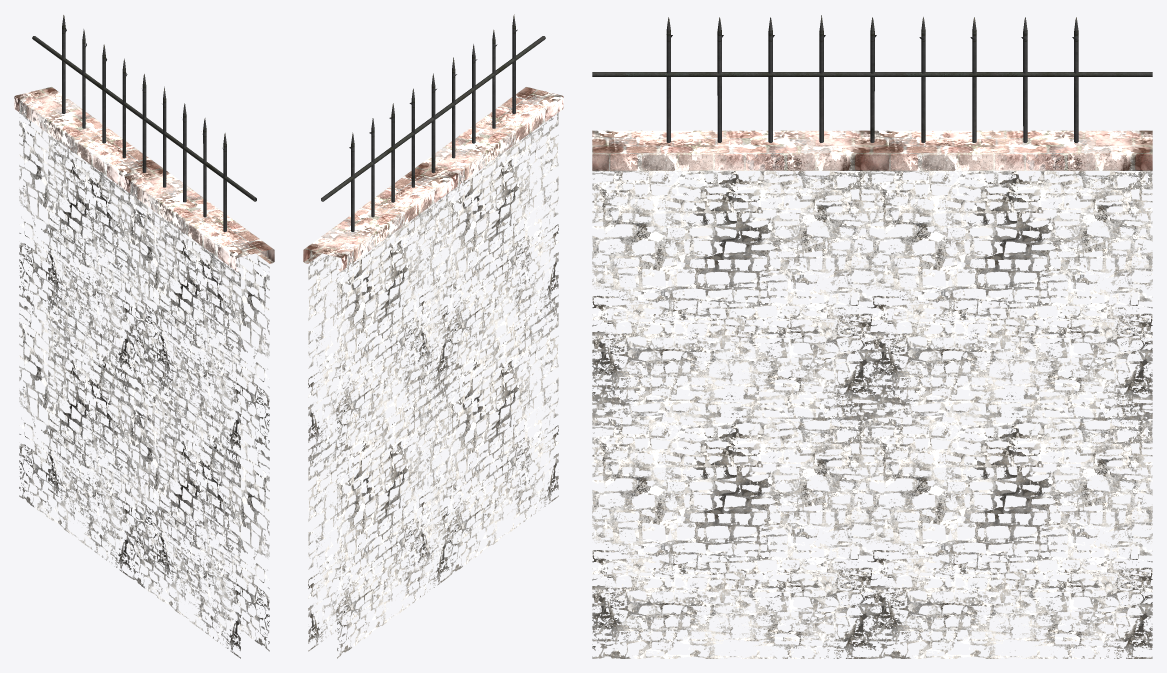
File: SM_fence_4m_01.fbx
The picture shows the model from 3 angles, left to right: view 1: azimuth 30°, elevation 25°; view 2: azimuth 150°, elevation 25°; view 3: azimuth 270°, elevation 25°; orthographic projection. The views are drawn at different scales.
Visible parts, largest first — view 1: SM_fence_4m_01_LOD0; view 2: SM_fence_4m_01_LOD0; view 3: SM_fence_4m_01_LOD0.
Boxes of the visible parts, bbox=[...] form: SM_fence_4m_01_LOD0: bbox=[14, 15, 274, 658]; SM_fence_4m_01_LOD0: bbox=[303, 14, 563, 658]; SM_fence_4m_01_LOD0: bbox=[592, 15, 1152, 658].
Size of the model in its own units: 40 by 400 by 501.
3 materials, 3 textured.
